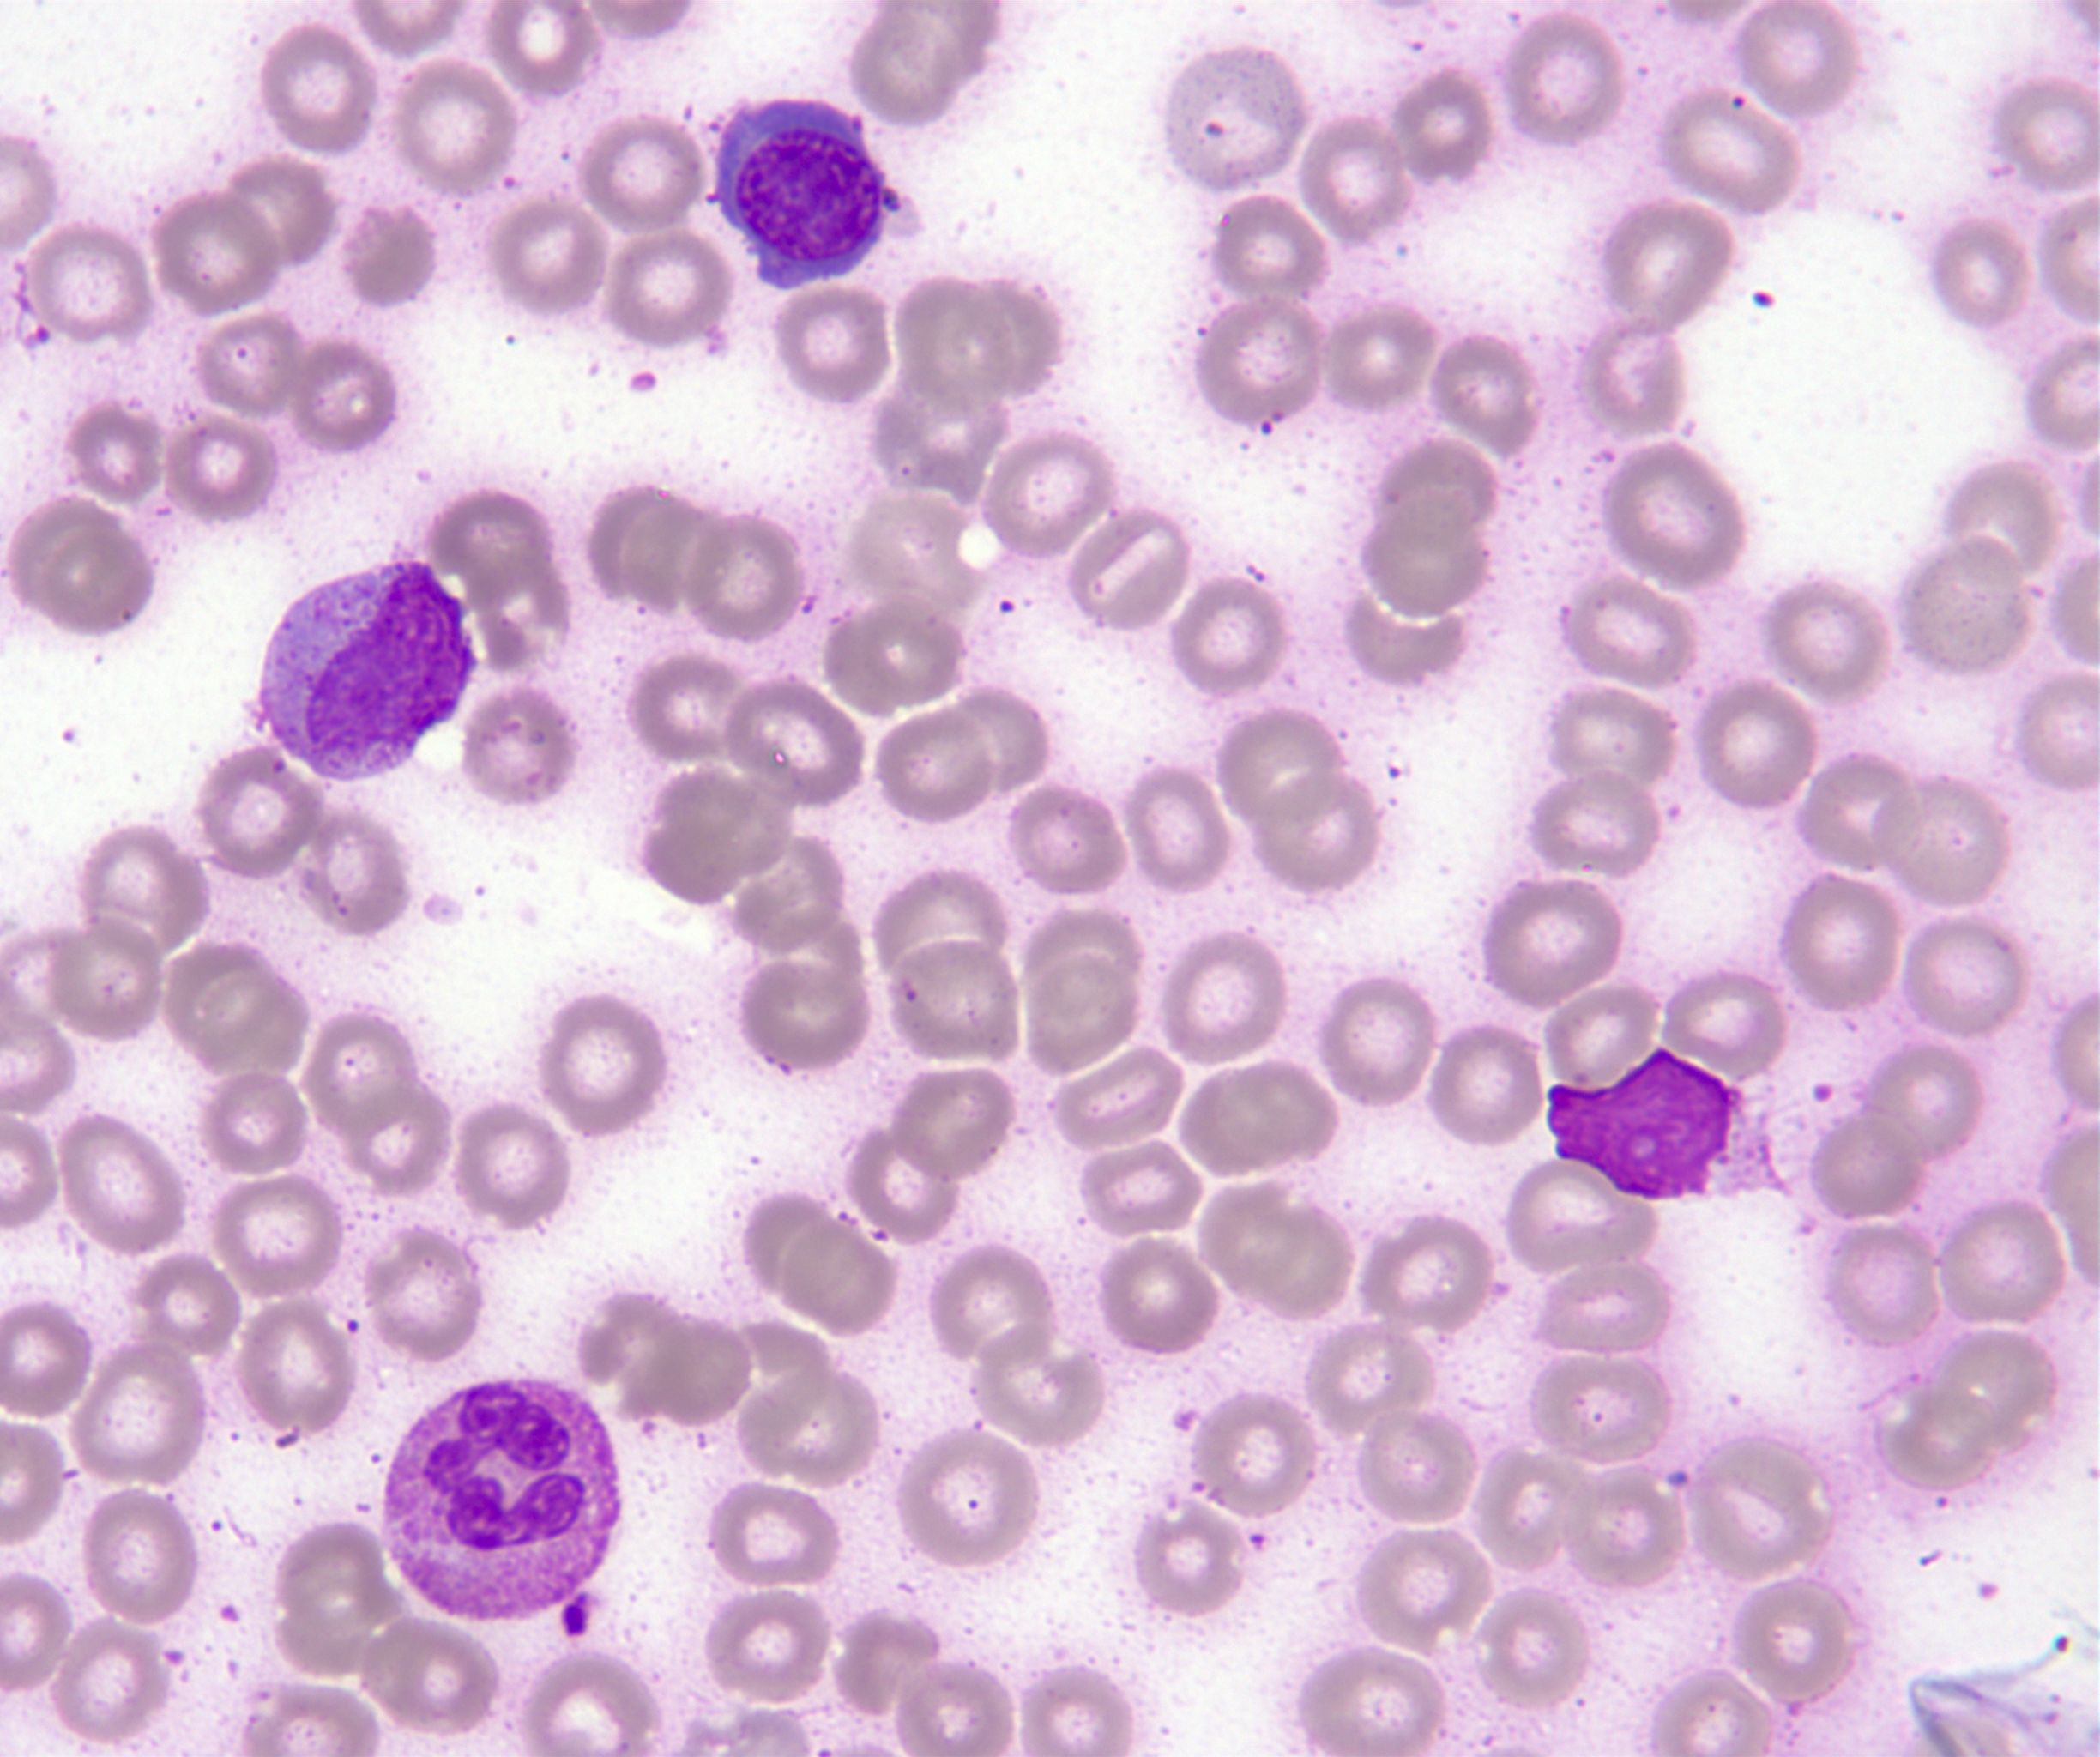23: (715, 101, 886, 290)
3: (260, 564, 474, 782)
6: (382, 1380, 619, 1619)
x: (1547, 1047, 1734, 1199)
